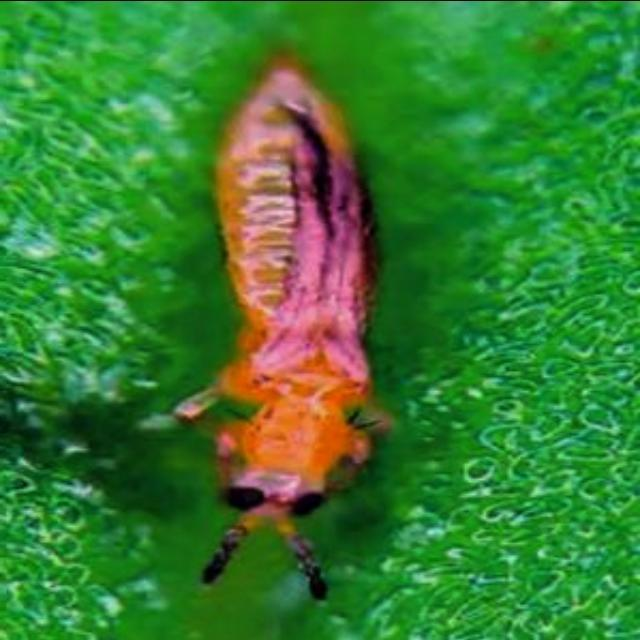melon thrips: (12, 31, 454, 640)
